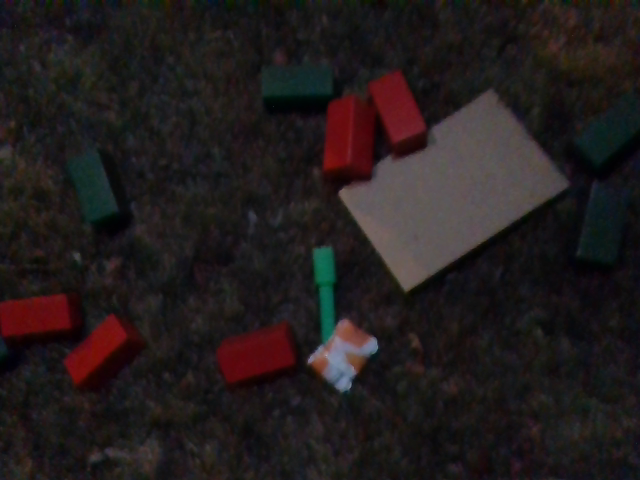Probe: (308, 241, 339, 348)
